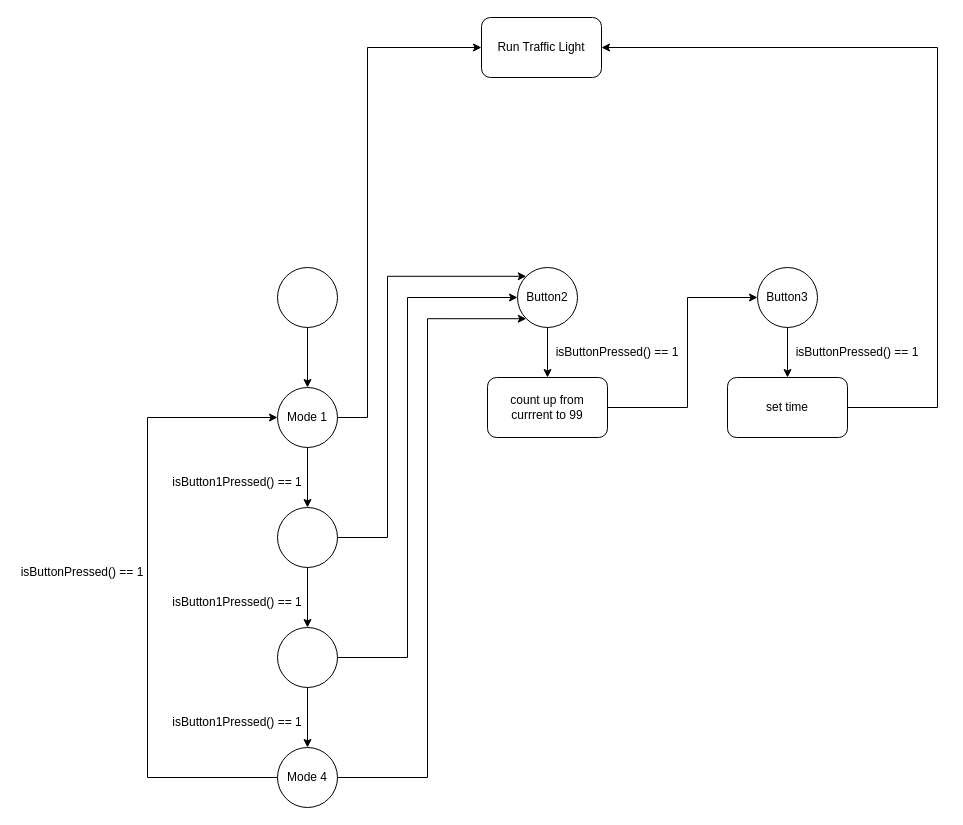
Image size: 963x825. Some labels were removed from this diagram. Each missing label, with the box of its shape:
Button1: (276, 266, 338, 328)
Mode 2: (276, 506, 338, 568)
Mode 3: (276, 626, 338, 688)
